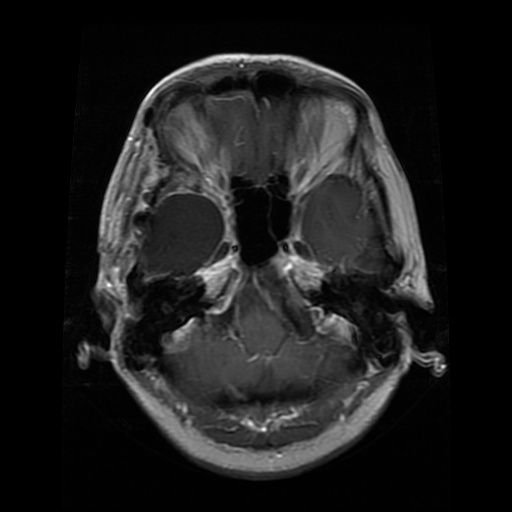glioma: (139, 191, 225, 276)
